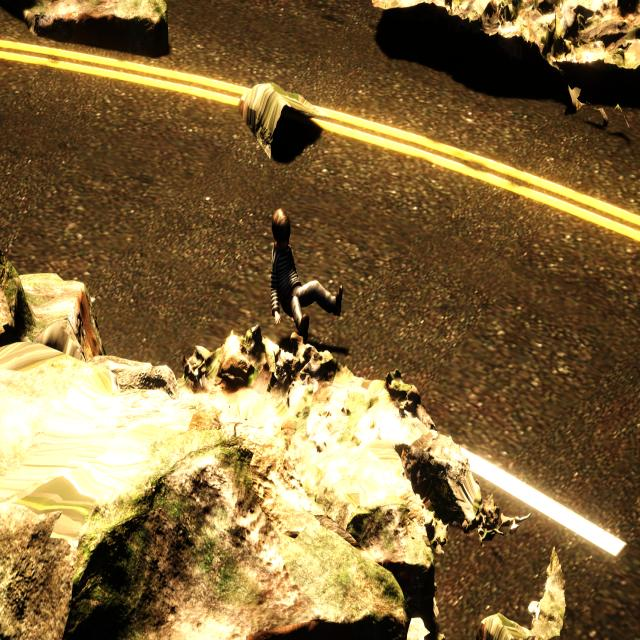Human: (264, 203, 347, 345)
